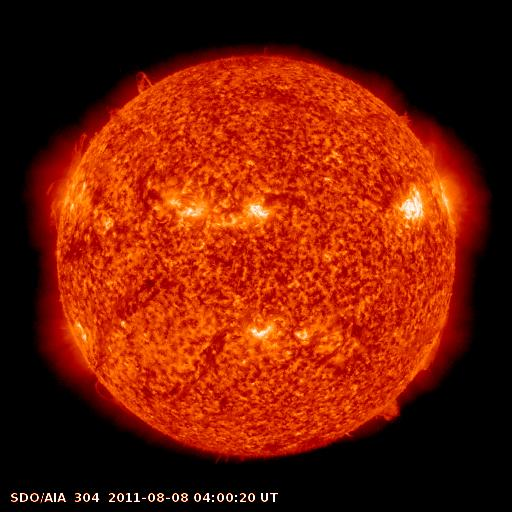prominence: (42, 128, 95, 233), (366, 390, 410, 432), (418, 328, 451, 378), (125, 62, 165, 99), (87, 373, 120, 407)
